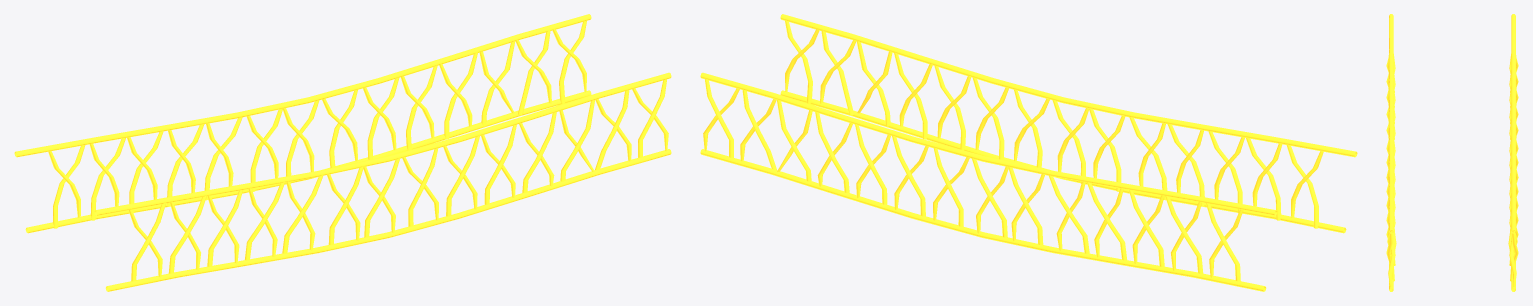
Rendered from CordaTexture.fbx.
3 renders of one model, left to right at view 1: azimuth 30°, elevation 25°; view 2: azimuth 150°, elevation 25°; view 3: azimuth 270°, elevation 25°, orthographic. The views are drawn at different scales.
Parts seen in each view (by area): view 1: CordaDaPOnte; view 2: CordaDaPOnte; view 3: CordaDaPOnte.
Boxes of the visible parts, x1=… form: CordaDaPOnte: x1=14, y1=14, x2=671, y2=291; CordaDaPOnte: x1=700, y1=14, x2=1357, y2=291; CordaDaPOnte: x1=1386, y1=14, x2=1518, y2=291.
Size of the model in its own units: 14.36 by 2.34 by 3.74.
